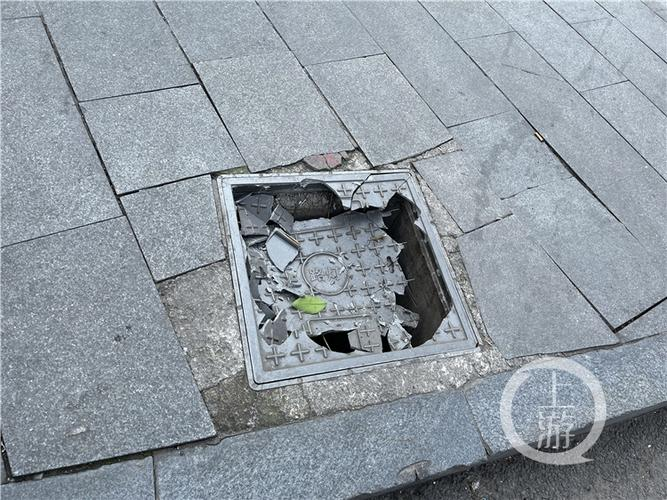broke: (194, 153, 514, 401)
